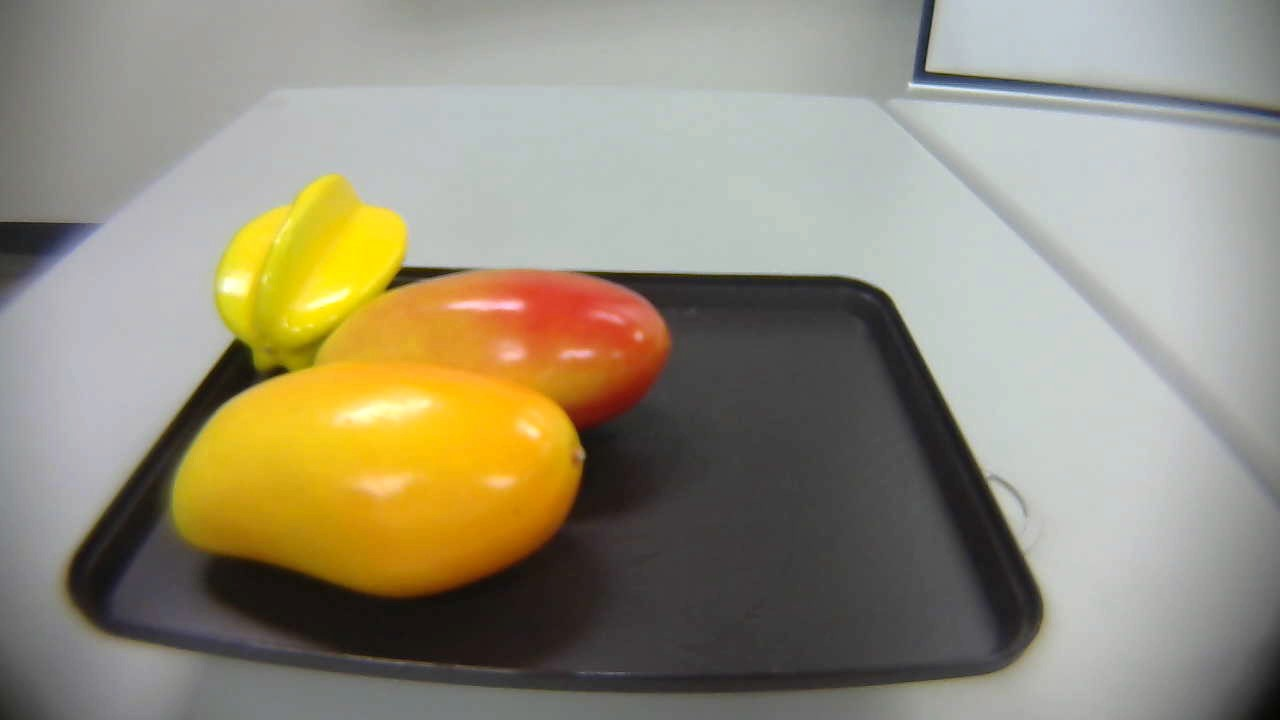red mango: (317, 266, 674, 437)
star fruit: (188, 168, 417, 375)
yellow mango: (169, 363, 599, 588)
